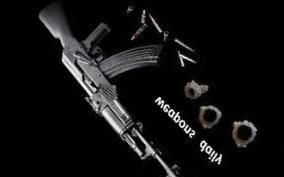larga: (38, 4, 183, 177)
